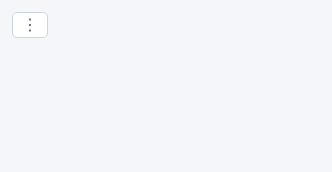
MenuAcoes › abre somente ações permitidas e executa a escolhida
Later steps or results of the test are not shown.
Click the button titled "Mais ações" at (30, 25), box [12, 12, 48, 38]
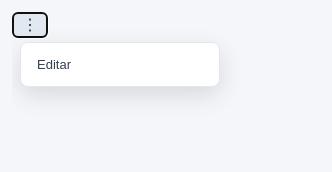
Check: the button "Editar" is shown, box [27, 49, 213, 80]
